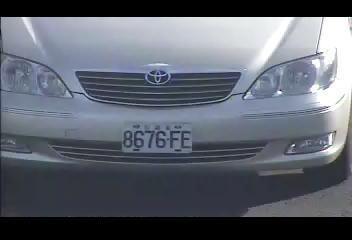plate: (120, 121, 194, 156)
